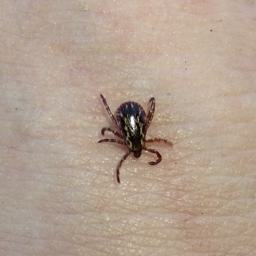Dermacentor variabilis: (96, 91, 174, 185)
